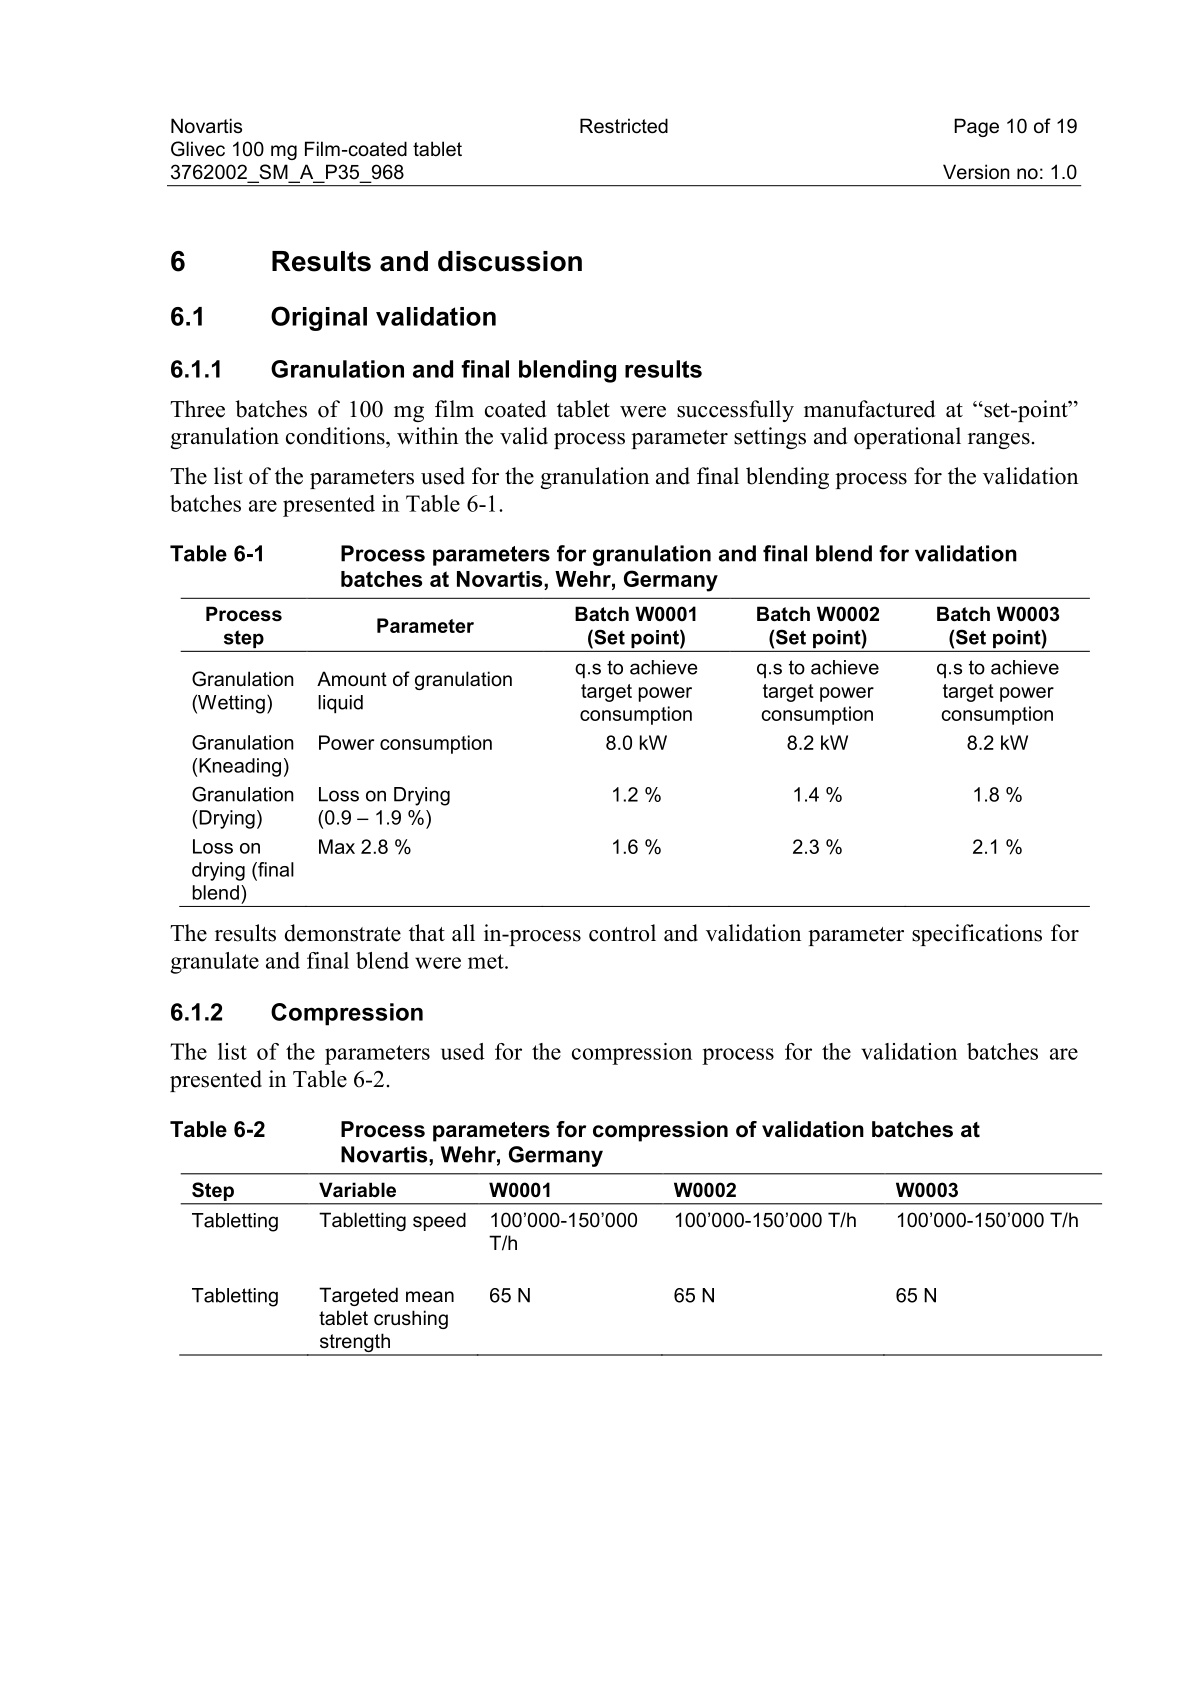partial_lined: (179, 597, 1092, 911), (179, 1171, 1101, 1357)
